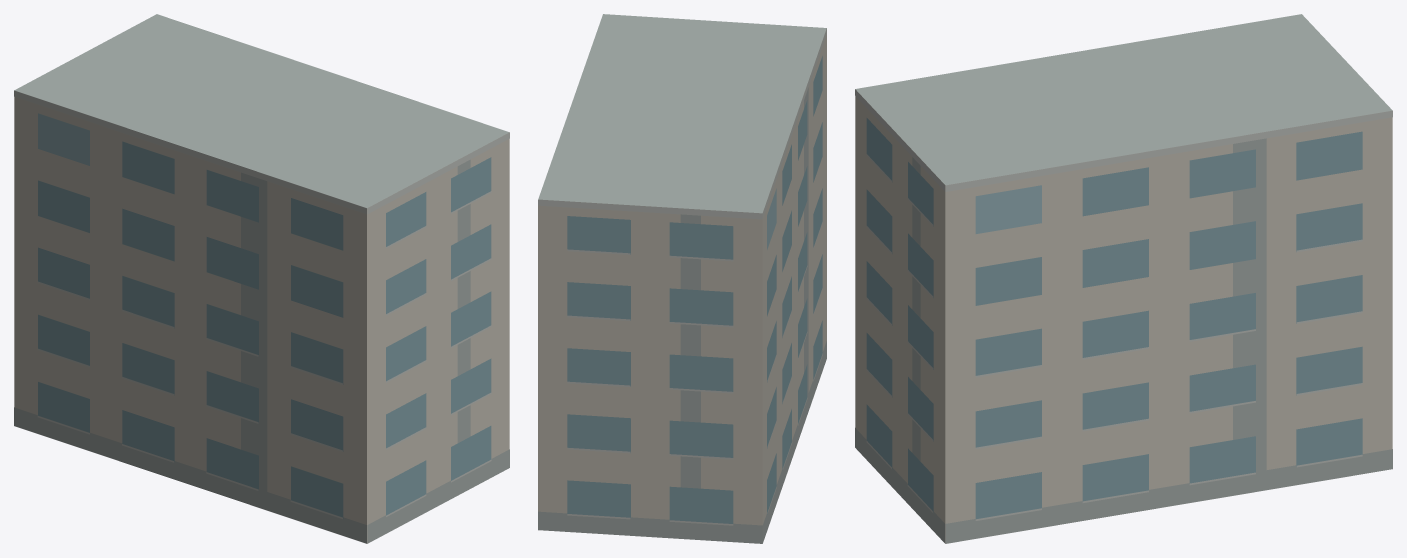
File: survey-upis-32886625.glb
3 views of the same model, side by side, from view 1: azimuth 30°, elevation 25°; view 2: azimuth 150°, elevation 25°; view 3: azimuth 270°, elevation 25° (orthographic). The views are drawn at different scales.
Visible parts, largest first — view 1: survey-upis-32886625.tmp; view 2: survey-upis-32886625.tmp; view 3: survey-upis-32886625.tmp.
Part boxes in pixels (x1,y1,x2,y2): survey-upis-32886625.tmp: [14, 14, 509, 543]; survey-upis-32886625.tmp: [538, 14, 826, 543]; survey-upis-32886625.tmp: [855, 14, 1392, 543].
Size of the model in its own units: 13.44 by 13.1 by 17.82.
